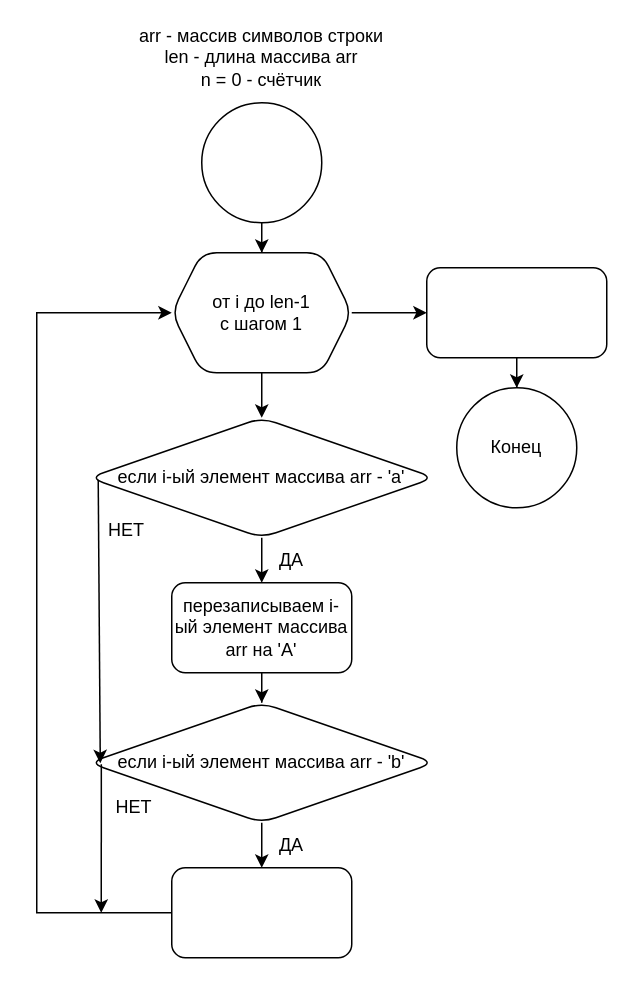
Image size: 633x984. Some labels were removed from this diagram. The centre of each missing label's shape, as x and y in pixels:
"выводим n" belongs at point 516,312.
"Начало" belongs at point 261,162.
"перезаписываем i-ый элемент массива arr на 'B'" belongs at point 261,912.
